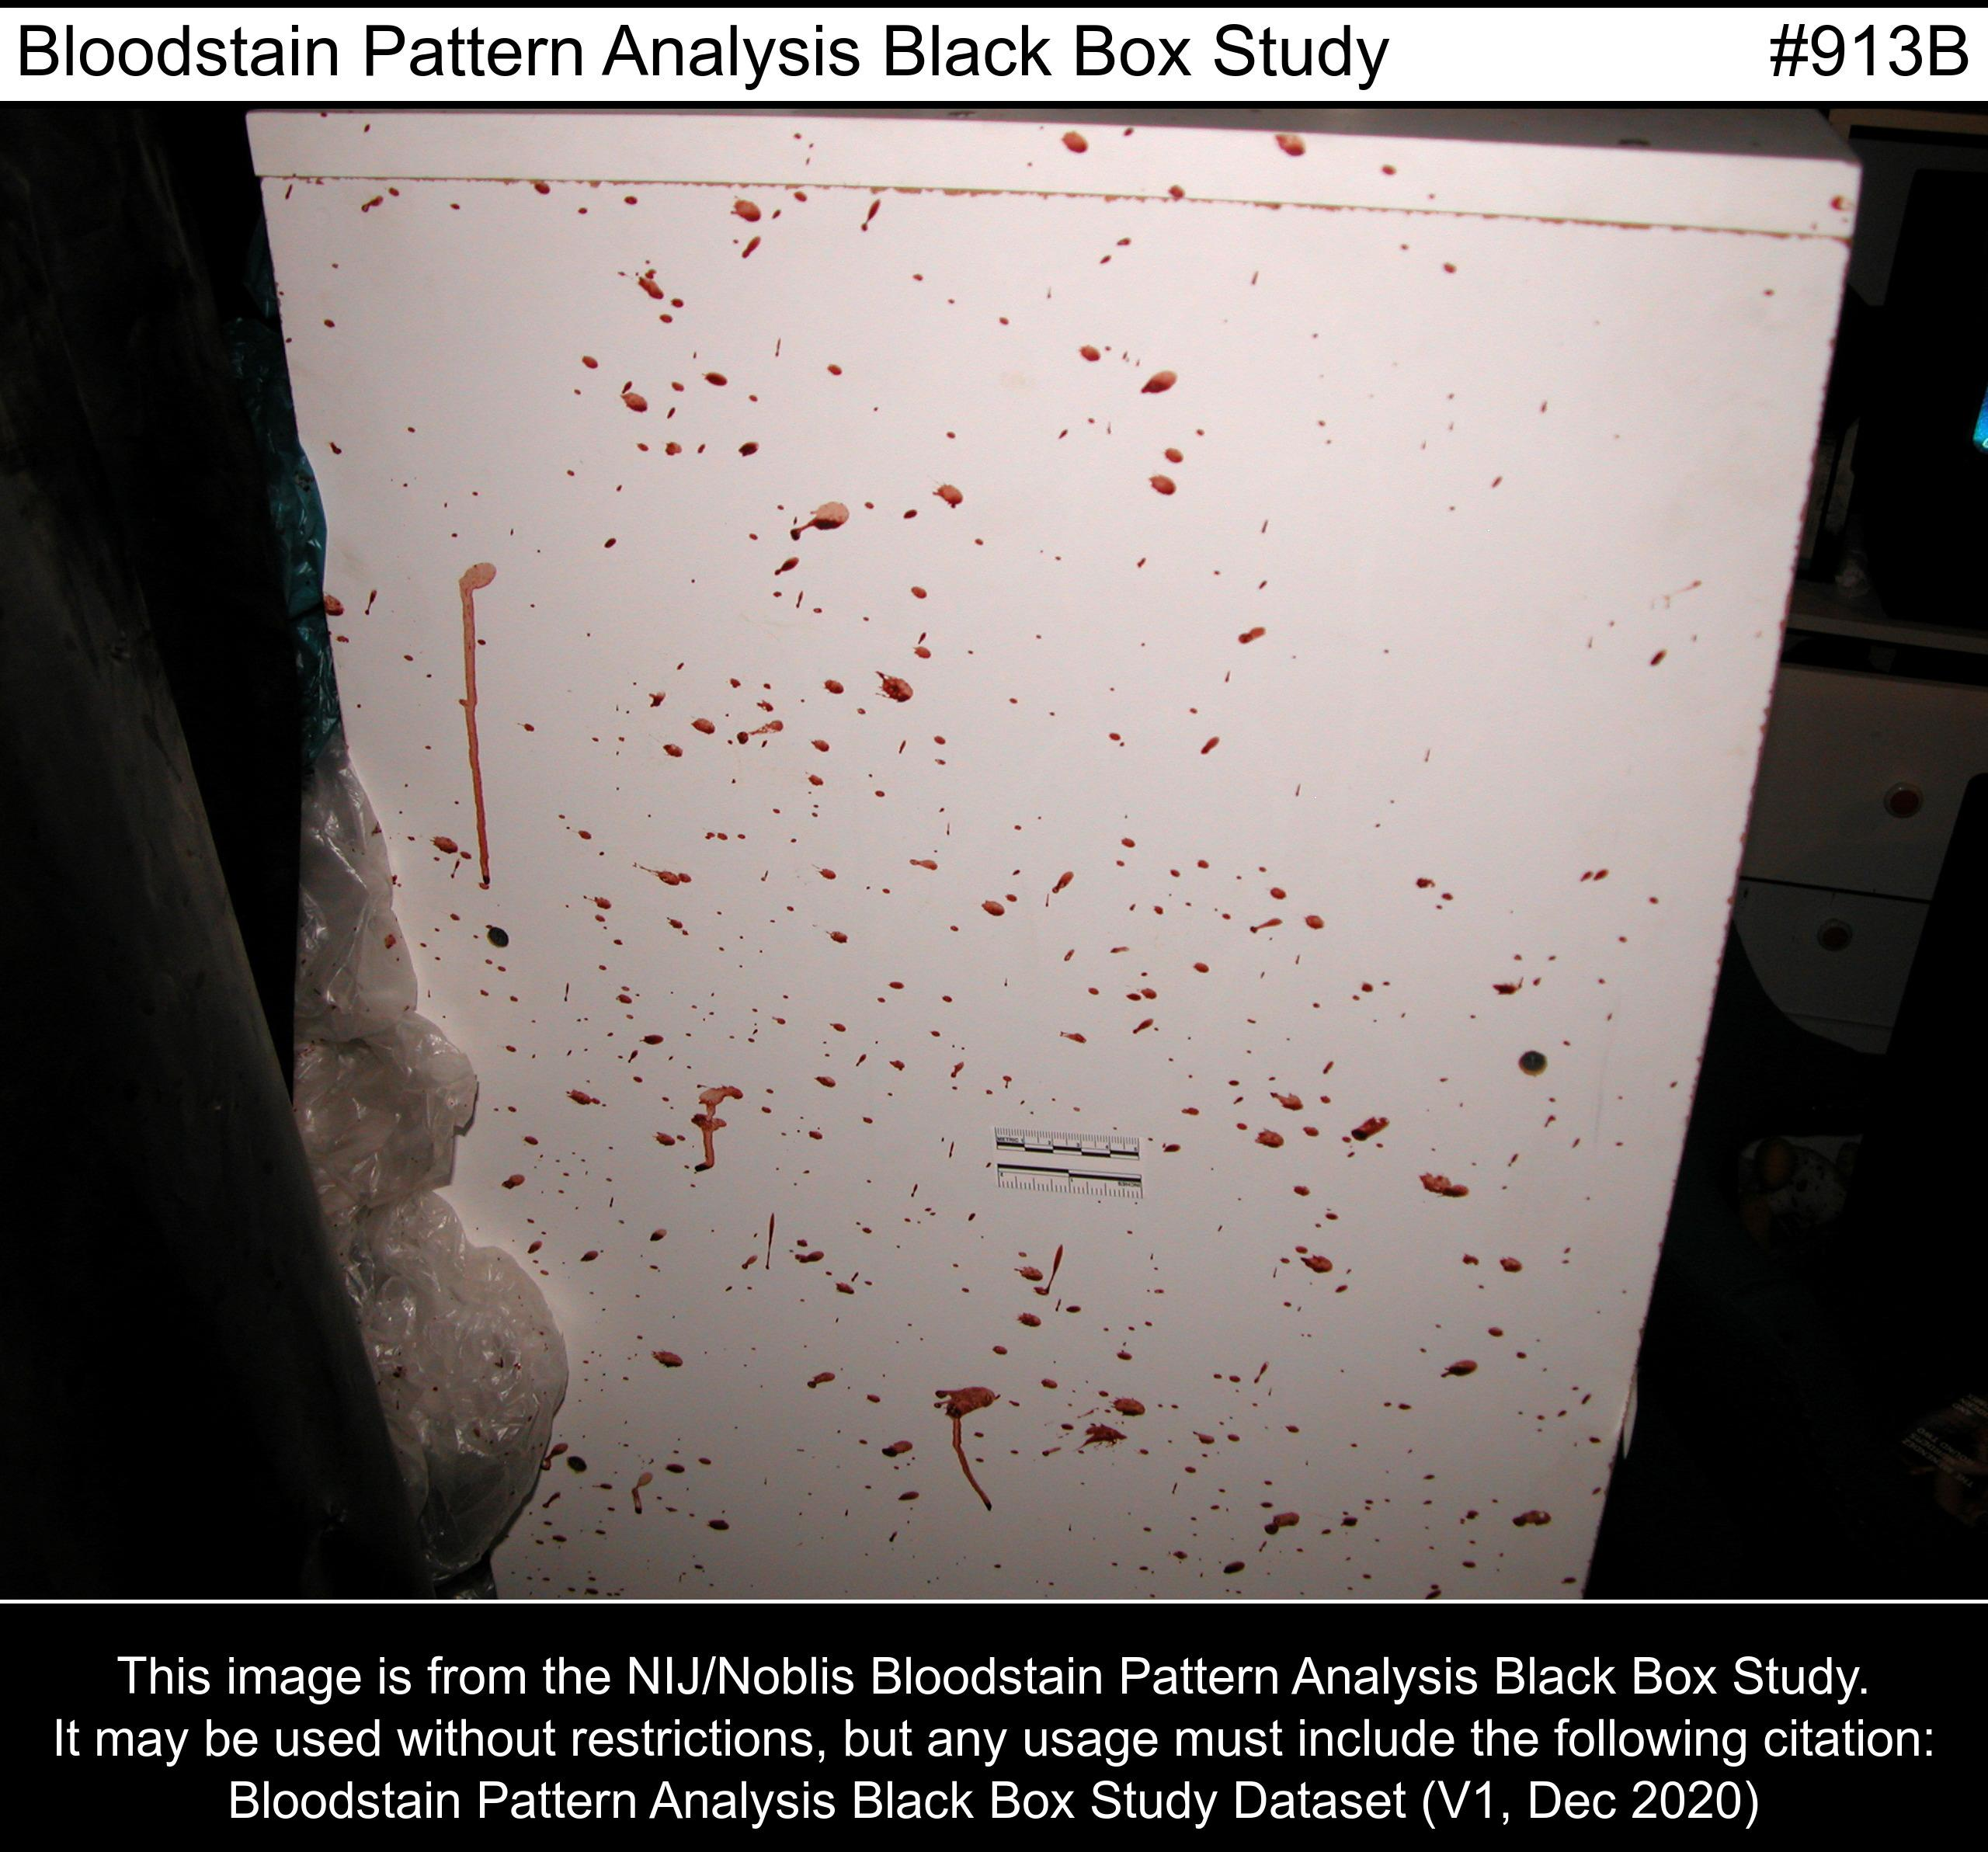Impact: (265, 124, 1647, 1580)
